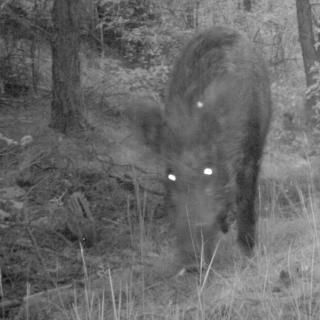Pig: (133, 16, 281, 268)
